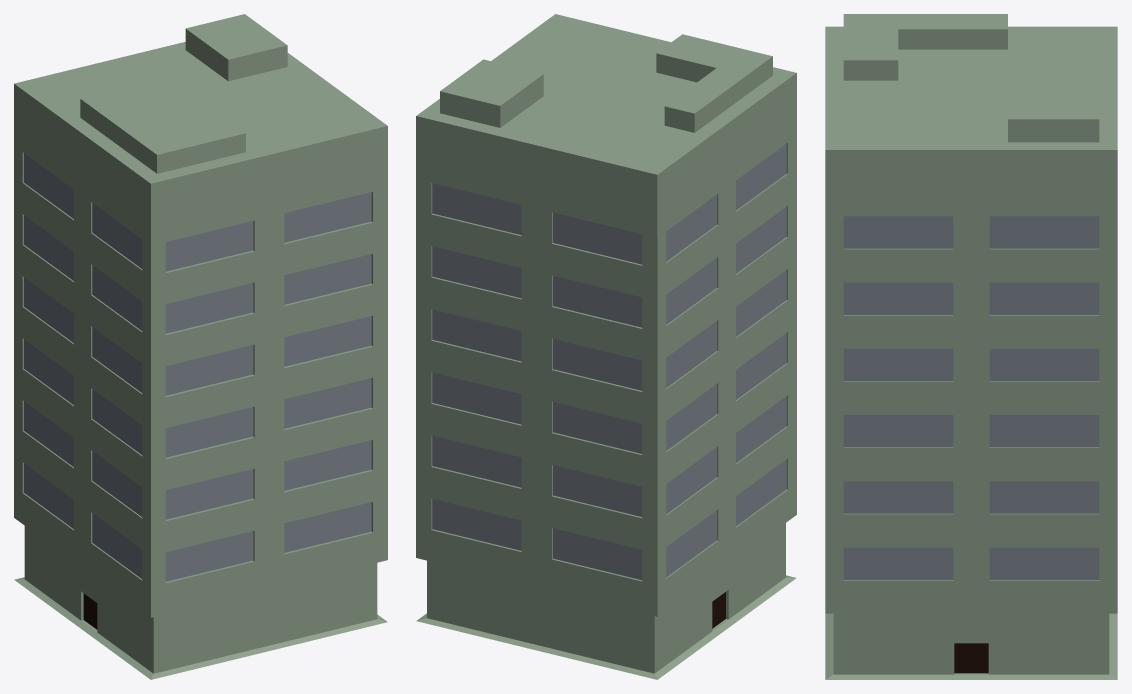
The picture shows the model from 3 angles, left to right: view 1: azimuth 30°, elevation 25°; view 2: azimuth 150°, elevation 25°; view 3: azimuth 270°, elevation 25°; orthographic projection. The views are drawn at different scales.
Visible parts, largest first — view 1: Cube.013; view 2: Cube.013; view 3: Cube.013.
Boxes of the visible parts, left/top/right/bottom form: Cube.013: left=14, top=14, right=387, bottom=679; Cube.013: left=416, top=14, right=796, bottom=679; Cube.013: left=825, top=14, right=1117, bottom=679.
Bounding box in the file's own units: 800 × 1670 × 800.
